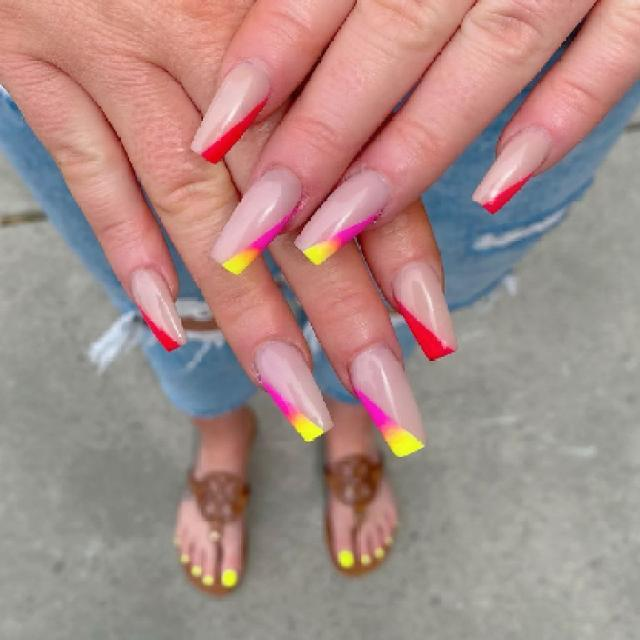Nail: (211, 169, 301, 274), (295, 170, 390, 264), (350, 345, 426, 456), (192, 61, 270, 162), (255, 341, 332, 441), (392, 261, 456, 359), (478, 130, 548, 212), (131, 269, 185, 349)
